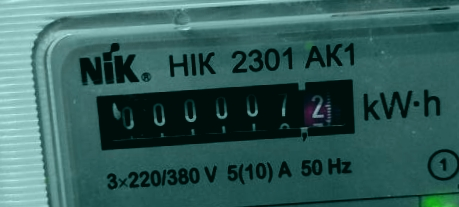0: (211, 92, 229, 120), (180, 94, 197, 123), (117, 102, 135, 129), (149, 99, 166, 126), (243, 90, 259, 118)
2: (308, 92, 325, 119)
7: (274, 88, 290, 118)
screen: (83, 72, 366, 155)
